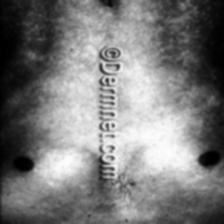Non-Cancerous Skin Condition: (0, 0, 75, 135), (155, 0, 224, 124), (106, 168, 148, 218)
